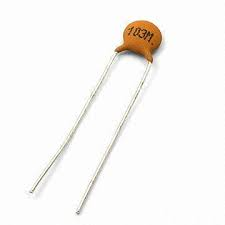ceramic capacitor: (102, 10, 179, 100)
